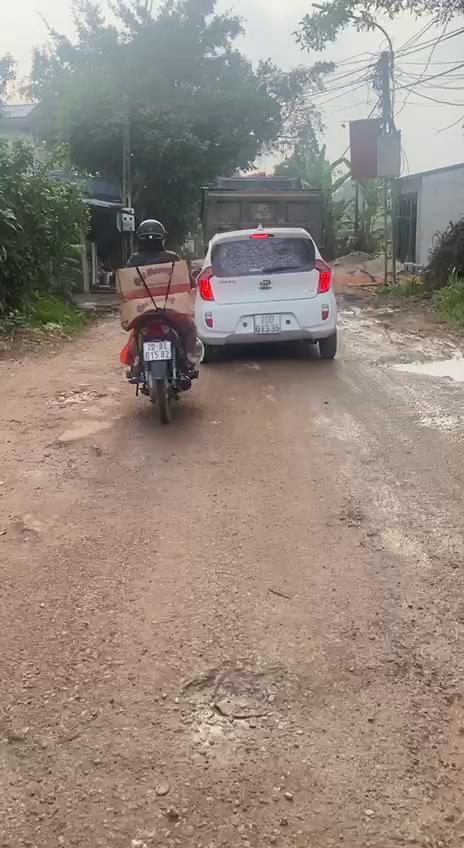pothole: (169, 682, 292, 774), (24, 436, 114, 486), (374, 354, 464, 385), (48, 382, 106, 412)
